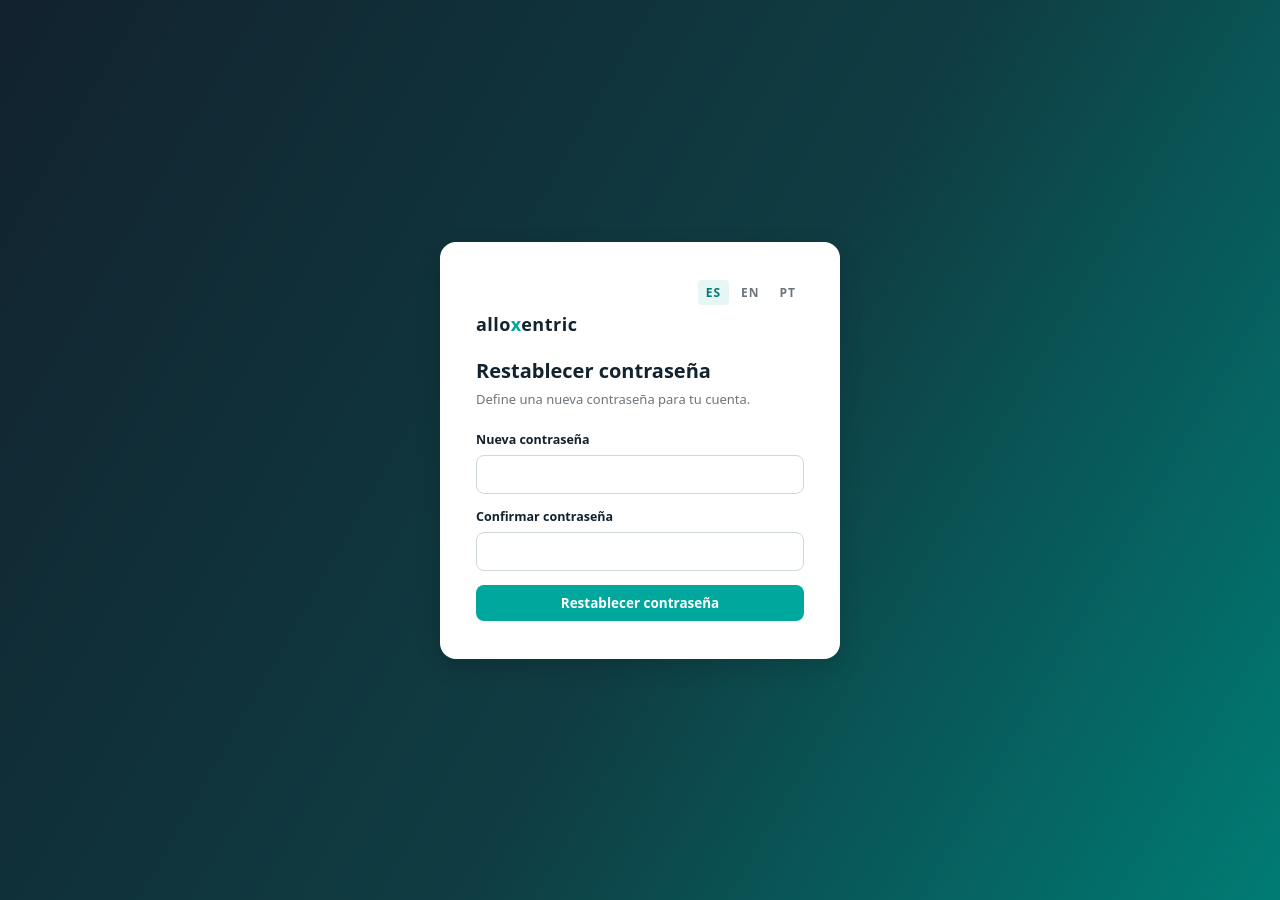
Scenario: Restablecer contraseña › muestra el error si el enlace ya fue usado
Type "NuevaClave123" into the 1st password field at (640, 474), box [476,455,804,494]
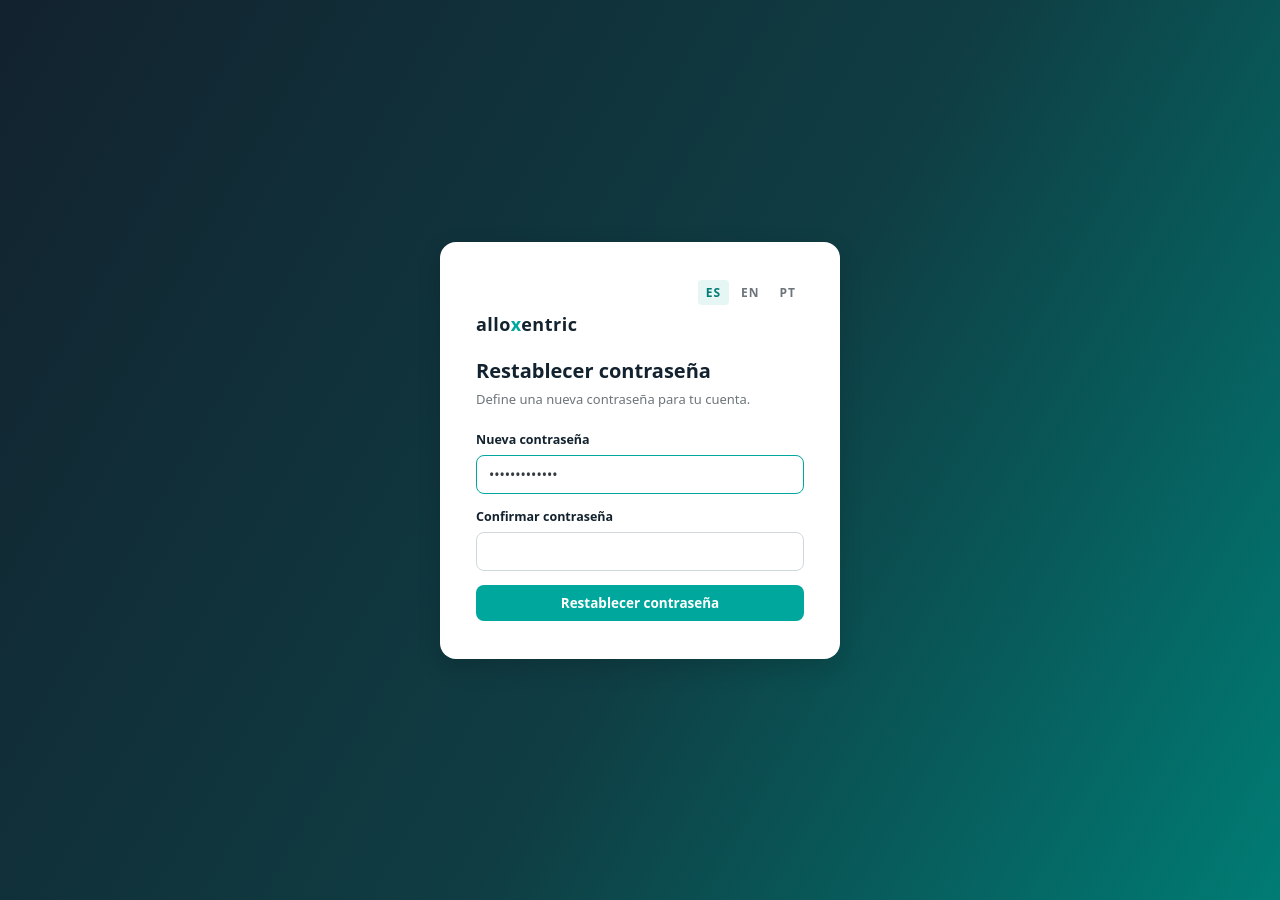
Type "NuevaClave123" into the password field below "Confirmar contraseña" at (640, 551), box [476,532,804,570]
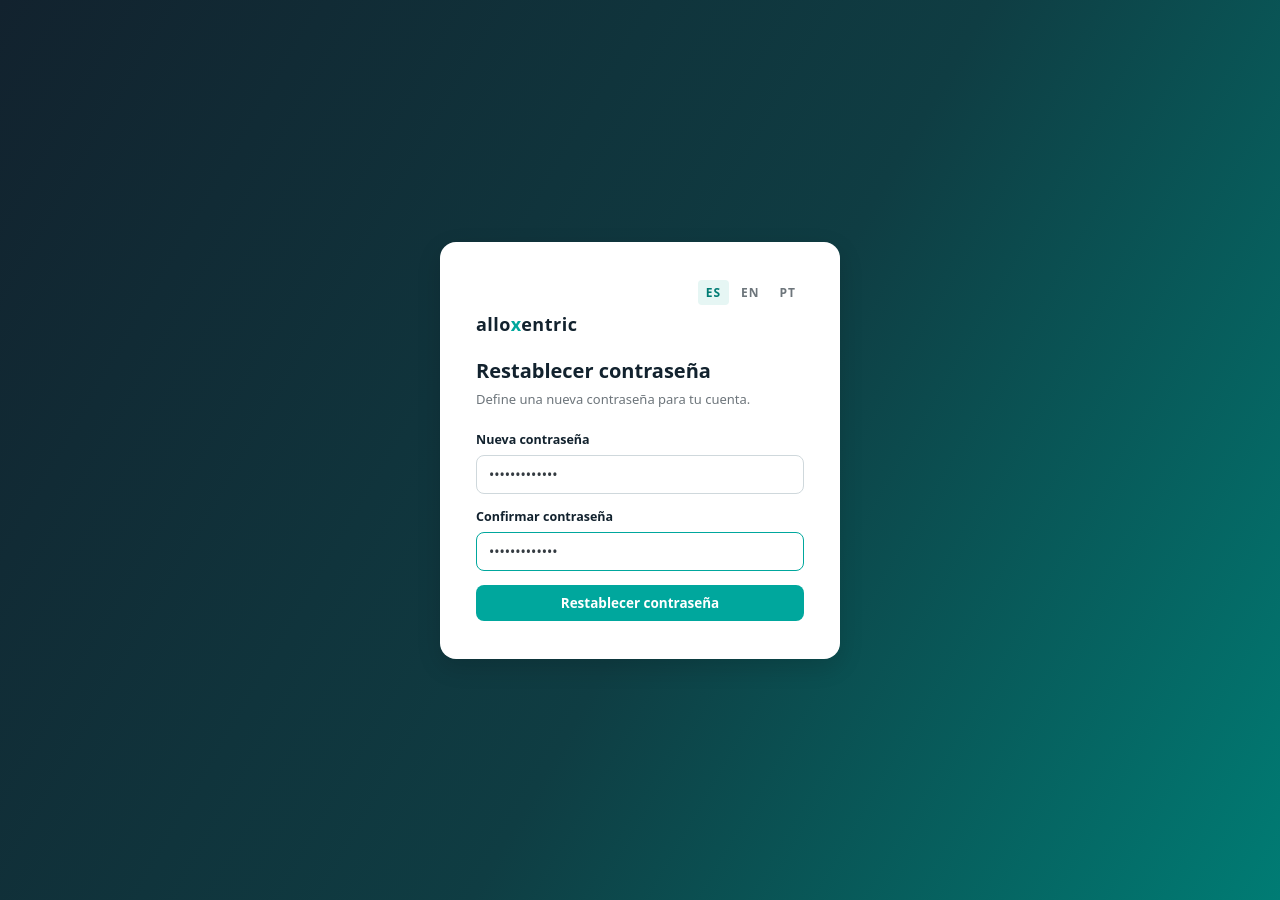
Click the button "Restablecer contraseña" at (640, 602), box [476,584,804,620]
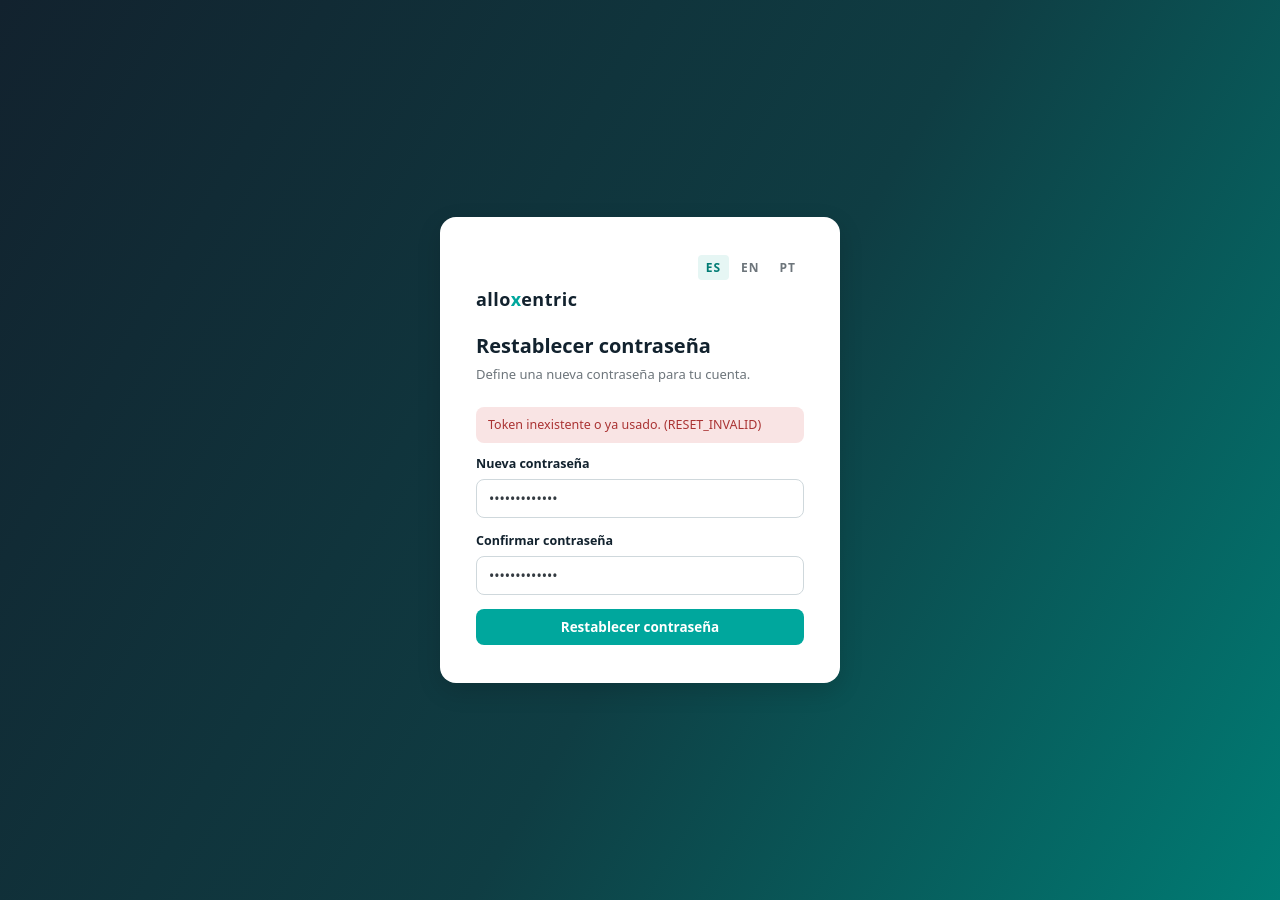
Expected: the text "Token inexistente o ya usado. (RESET_INVALID)" is shown, [476,407,804,443]
